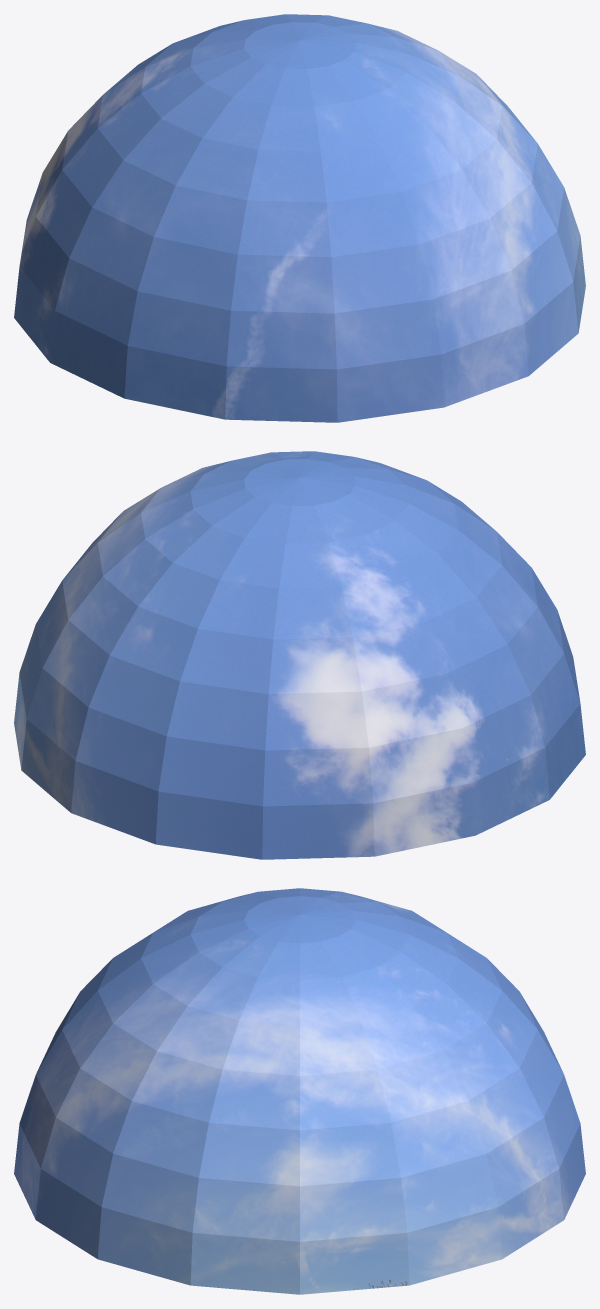
Rendered from sky.obj.
The picture shows the model from 3 angles, top to bottom: view 1: azimuth 30°, elevation 25°; view 2: azimuth 150°, elevation 25°; view 3: azimuth 270°, elevation 25°; orthographic projection.
Parts seen in each view (by area): view 1: Sphere_Sphere_Material_sky2.JPG; view 2: Sphere_Sphere_Material_sky2.JPG; view 3: Sphere_Sphere_Material_sky2.JPG.
Boxes of the visible parts, x1,y1,x2,y2 form: Sphere_Sphere_Material_sky2.JPG: (14,14,585,422); Sphere_Sphere_Material_sky2.JPG: (14,451,585,859); Sphere_Sphere_Material_sky2.JPG: (14,888,585,1294).
Size of the model in its own units: 200 by 100 by 200.
Materials: 1 (1 with a texture image).
